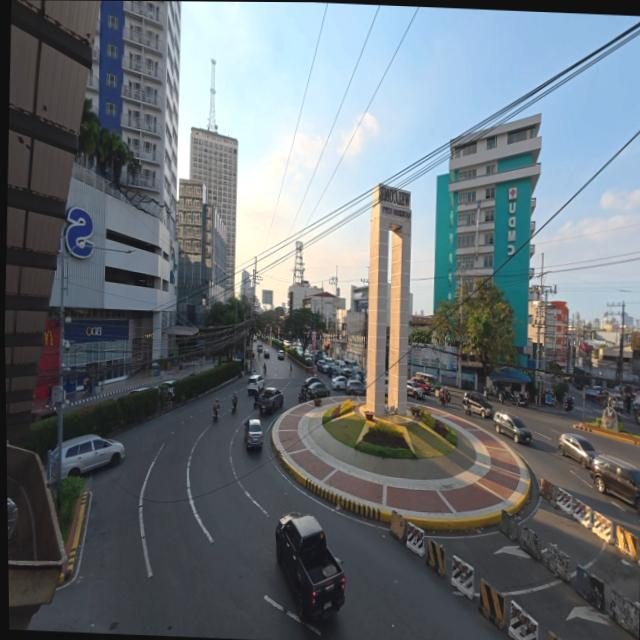car: (589, 455, 639, 514), (61, 435, 123, 477), (558, 434, 597, 468), (492, 412, 531, 443), (462, 391, 494, 418), (243, 419, 262, 449), (30, 407, 56, 422), (307, 382, 329, 398), (406, 380, 424, 399), (411, 377, 429, 394), (158, 380, 174, 399), (247, 375, 263, 394), (345, 380, 365, 395), (302, 376, 321, 391), (607, 393, 622, 412), (331, 376, 346, 390), (127, 386, 149, 395), (339, 367, 354, 380), (332, 358, 346, 371), (326, 365, 340, 378), (316, 359, 327, 373), (356, 371, 366, 383), (313, 350, 323, 361), (277, 349, 285, 360), (263, 348, 269, 359), (282, 340, 290, 348), (303, 353, 310, 361), (256, 344, 262, 353), (296, 347, 302, 355), (252, 350, 256, 358), (640, 416, 640, 429)
motorcycle: (514, 393, 527, 406), (563, 398, 575, 412), (252, 391, 259, 409), (463, 402, 471, 415), (298, 391, 307, 402), (231, 396, 236, 413), (212, 409, 217, 421)
trucks: (275, 512, 344, 620), (257, 388, 282, 412)
vans: (343, 359, 357, 371)
